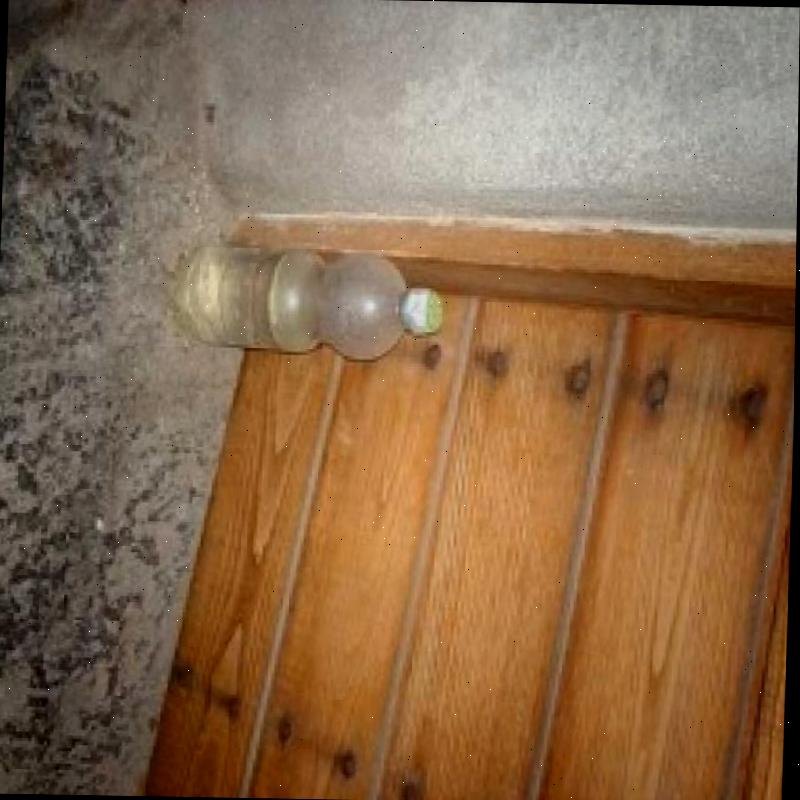botella: (181, 236, 441, 362)
